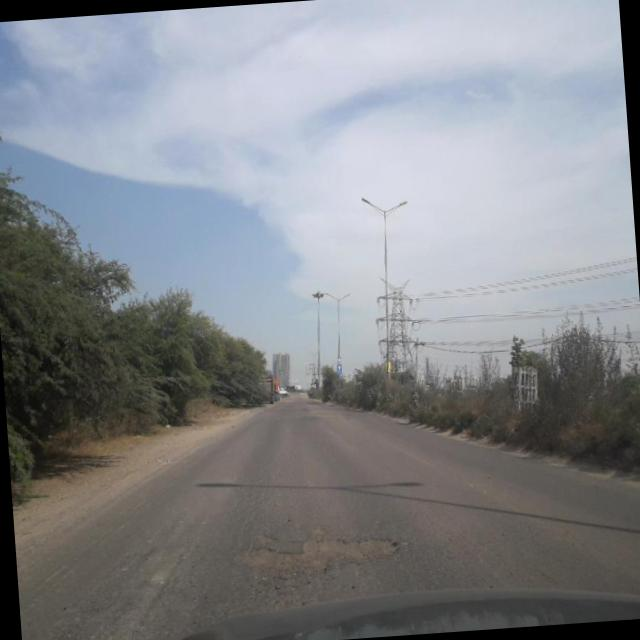crack: (12, 485, 162, 625), (203, 424, 314, 536), (407, 489, 524, 584)
pothole: (232, 520, 410, 590)
